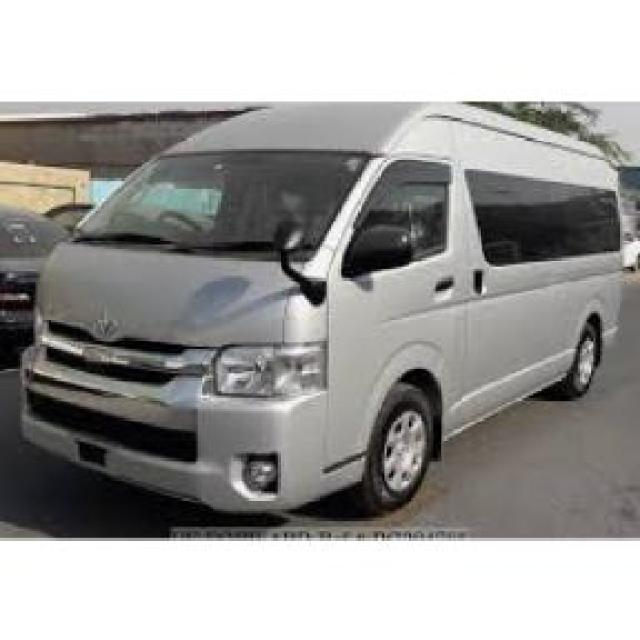Van: (24, 103, 621, 511)
